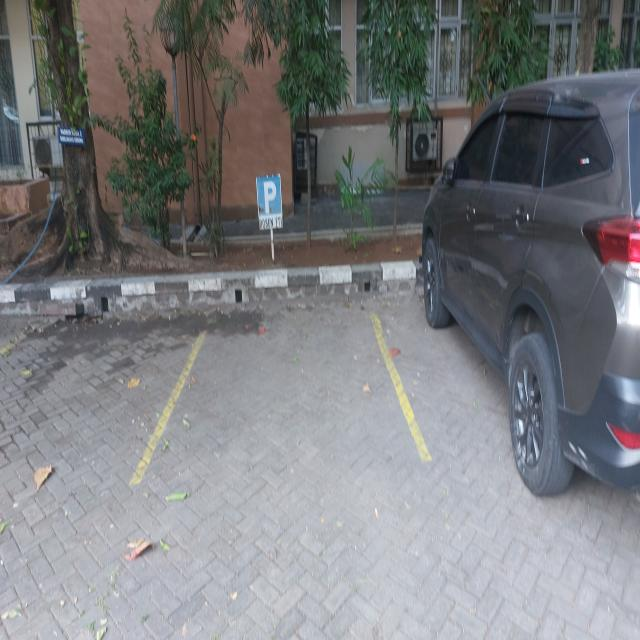empty: (136, 302, 425, 482), (0, 308, 215, 487)
occupied: (365, 64, 640, 510)
